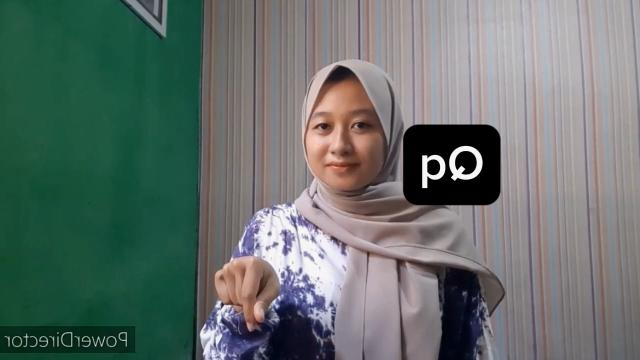Q: (205, 250, 281, 338)
